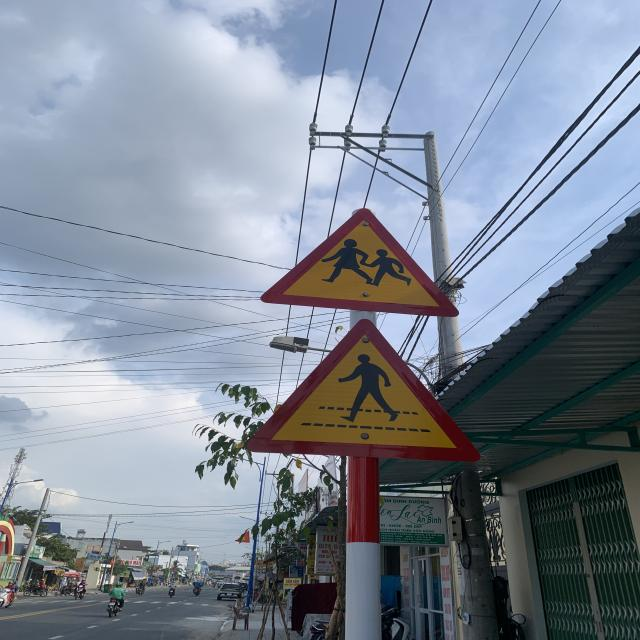Duong_Nguoi_Di_Bo_Sang_Ngang: (244, 316, 480, 462)
Vong_Xuyen: (258, 205, 459, 318)
